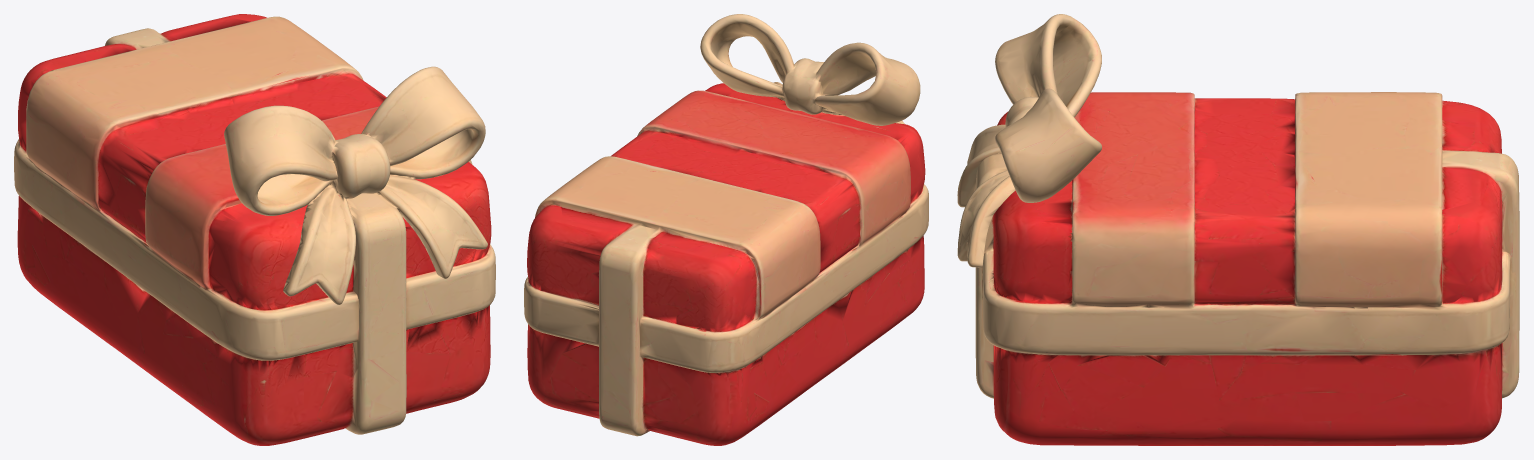
The model's file is giftbox.glb.
3 renders of one model, left to right at view 1: azimuth 30°, elevation 25°; view 2: azimuth 150°, elevation 25°; view 3: azimuth 270°, elevation 25°, orthographic. The views are drawn at different scales.
Bounding box in the file's own units: 1.11 × 1.26 × 1.9.
1 material, 1 textured.
